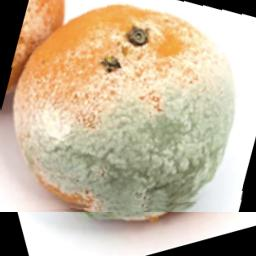Orange Rotten: (0, 0, 256, 212)
